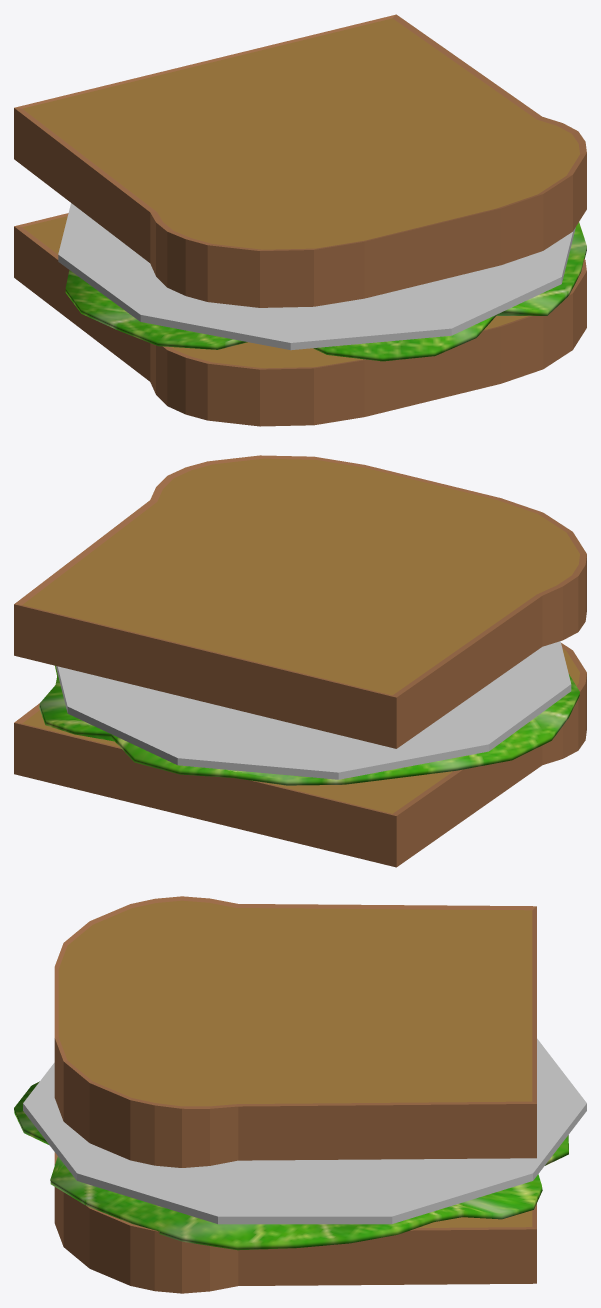
Rendered from Sandwich.fbx.
3 views of the same model, one above another, from view 1: azimuth 30°, elevation 25°; view 2: azimuth 150°, elevation 25°; view 3: azimuth 270°, elevation 25° (orthographic). The views are drawn at different scales.
Parts seen in each view (by area): view 1: tranche-pain, tranche-pain.001, Cylinder.001, Plane.012; view 2: tranche-pain, tranche-pain.001, Cylinder.001, Plane.012; view 3: tranche-pain, Cylinder.001, tranche-pain.001, Plane.012.
Boxes of the visible parts, bbox=[...] form: tranche-pain: bbox=[14, 14, 586, 307]; tranche-pain.001: bbox=[14, 213, 586, 426]; Cylinder.001: bbox=[58, 203, 575, 350]; Plane.012: bbox=[65, 222, 586, 361]; tranche-pain: bbox=[14, 455, 586, 748]; tranche-pain.001: bbox=[14, 643, 586, 867]; Cylinder.001: bbox=[56, 641, 571, 779]; Plane.012: bbox=[39, 665, 579, 785]; tranche-pain: bbox=[54, 896, 536, 1167]; Cylinder.001: bbox=[23, 1038, 586, 1224]; tranche-pain.001: bbox=[54, 1152, 536, 1293]; Plane.012: bbox=[14, 1081, 568, 1250].
Bounding box in the file's own units: 147 × 52.43 × 147.
